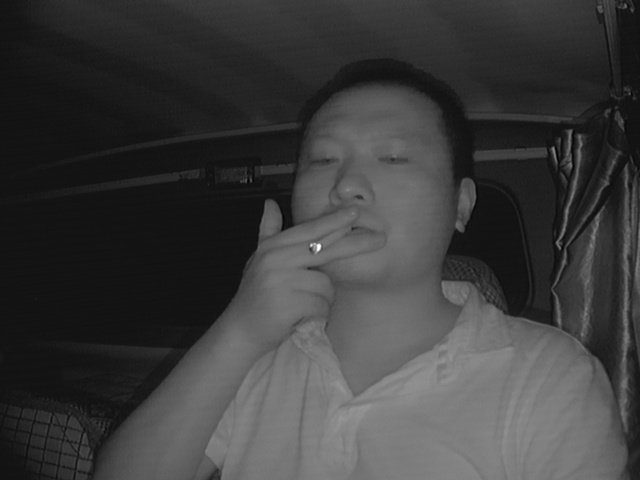hand: (240, 194, 380, 330)
